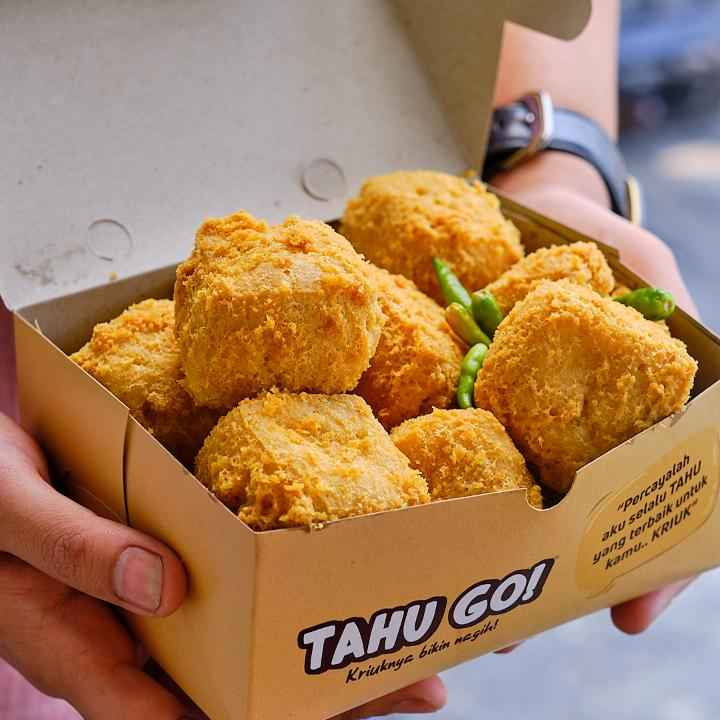Tahu: (156, 208, 386, 411), (501, 274, 688, 449), (238, 383, 418, 540), (363, 149, 526, 303)
